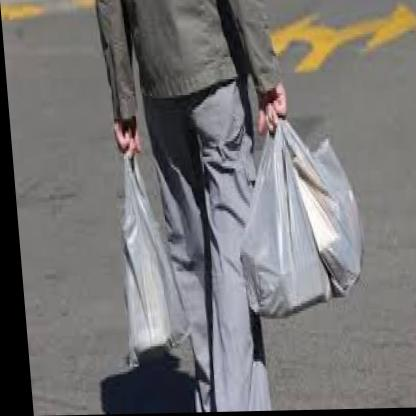Plastic: (228, 115, 386, 348), (88, 124, 197, 390)
